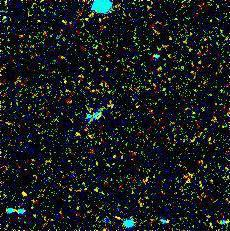star: (8, 177, 38, 207)
